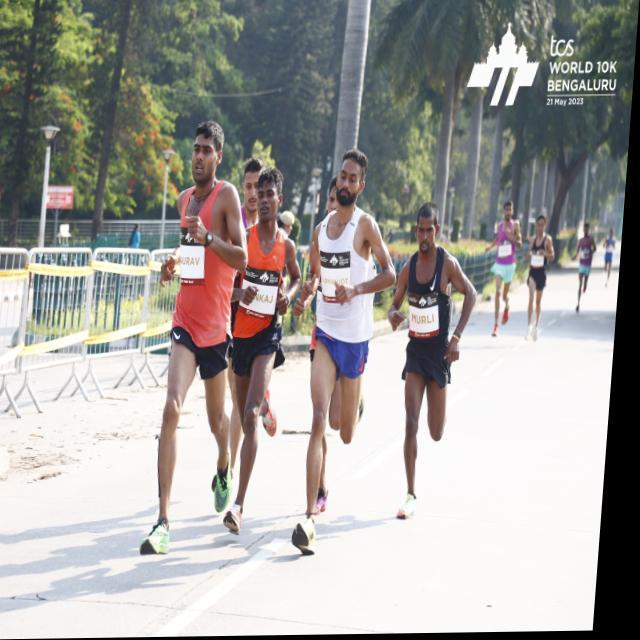dorsal: (318, 250, 359, 306), (246, 262, 284, 321), (408, 290, 449, 344), (179, 224, 214, 287)
